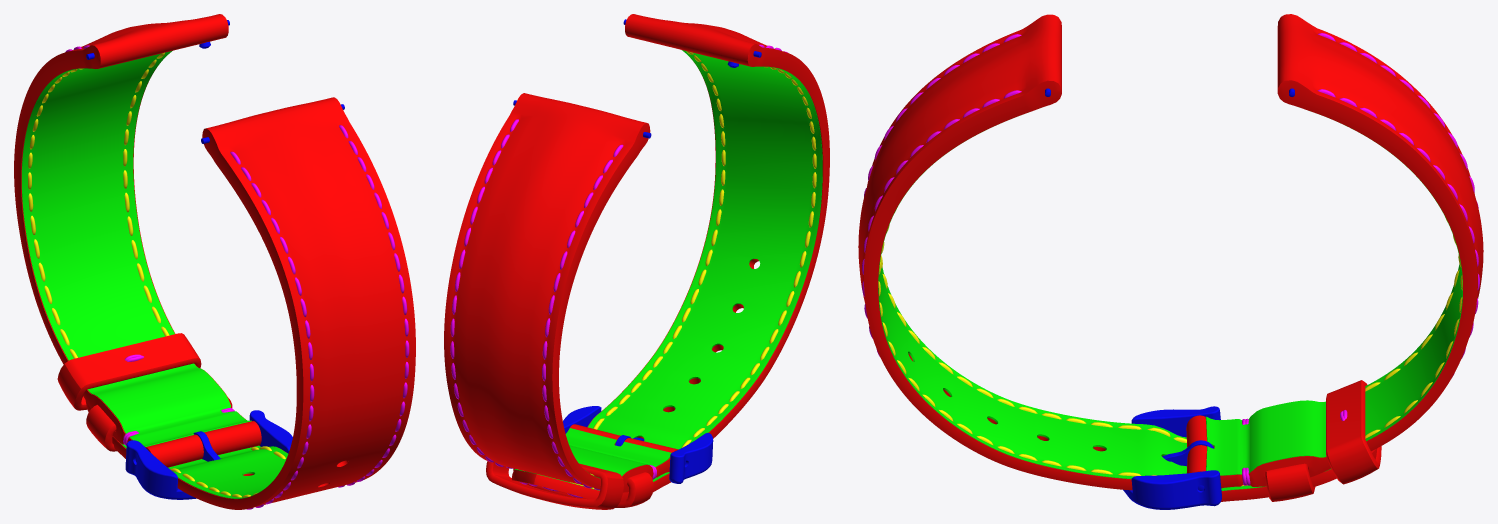
Rendered from Tank_Must_L_Calf.fbx.
3 renders of one model, left to right at view 1: azimuth 30°, elevation 25°; view 2: azimuth 150°, elevation 25°; view 3: azimuth 270°, elevation 25°, orthographic. The views are drawn at different scales.
Parts seen in each view (by area): view 1: Tank_Must_L_Calf; view 2: Tank_Must_L_Calf; view 3: Tank_Must_L_Calf.
Boxes of the visible parts, bbox=[...] form: Tank_Must_L_Calf: bbox=[14, 14, 415, 509]; Tank_Must_L_Calf: bbox=[444, 14, 829, 509]; Tank_Must_L_Calf: bbox=[858, 14, 1483, 509].
Bounding box in the file's own units: 2.1 × 5.74 × 7.48.
